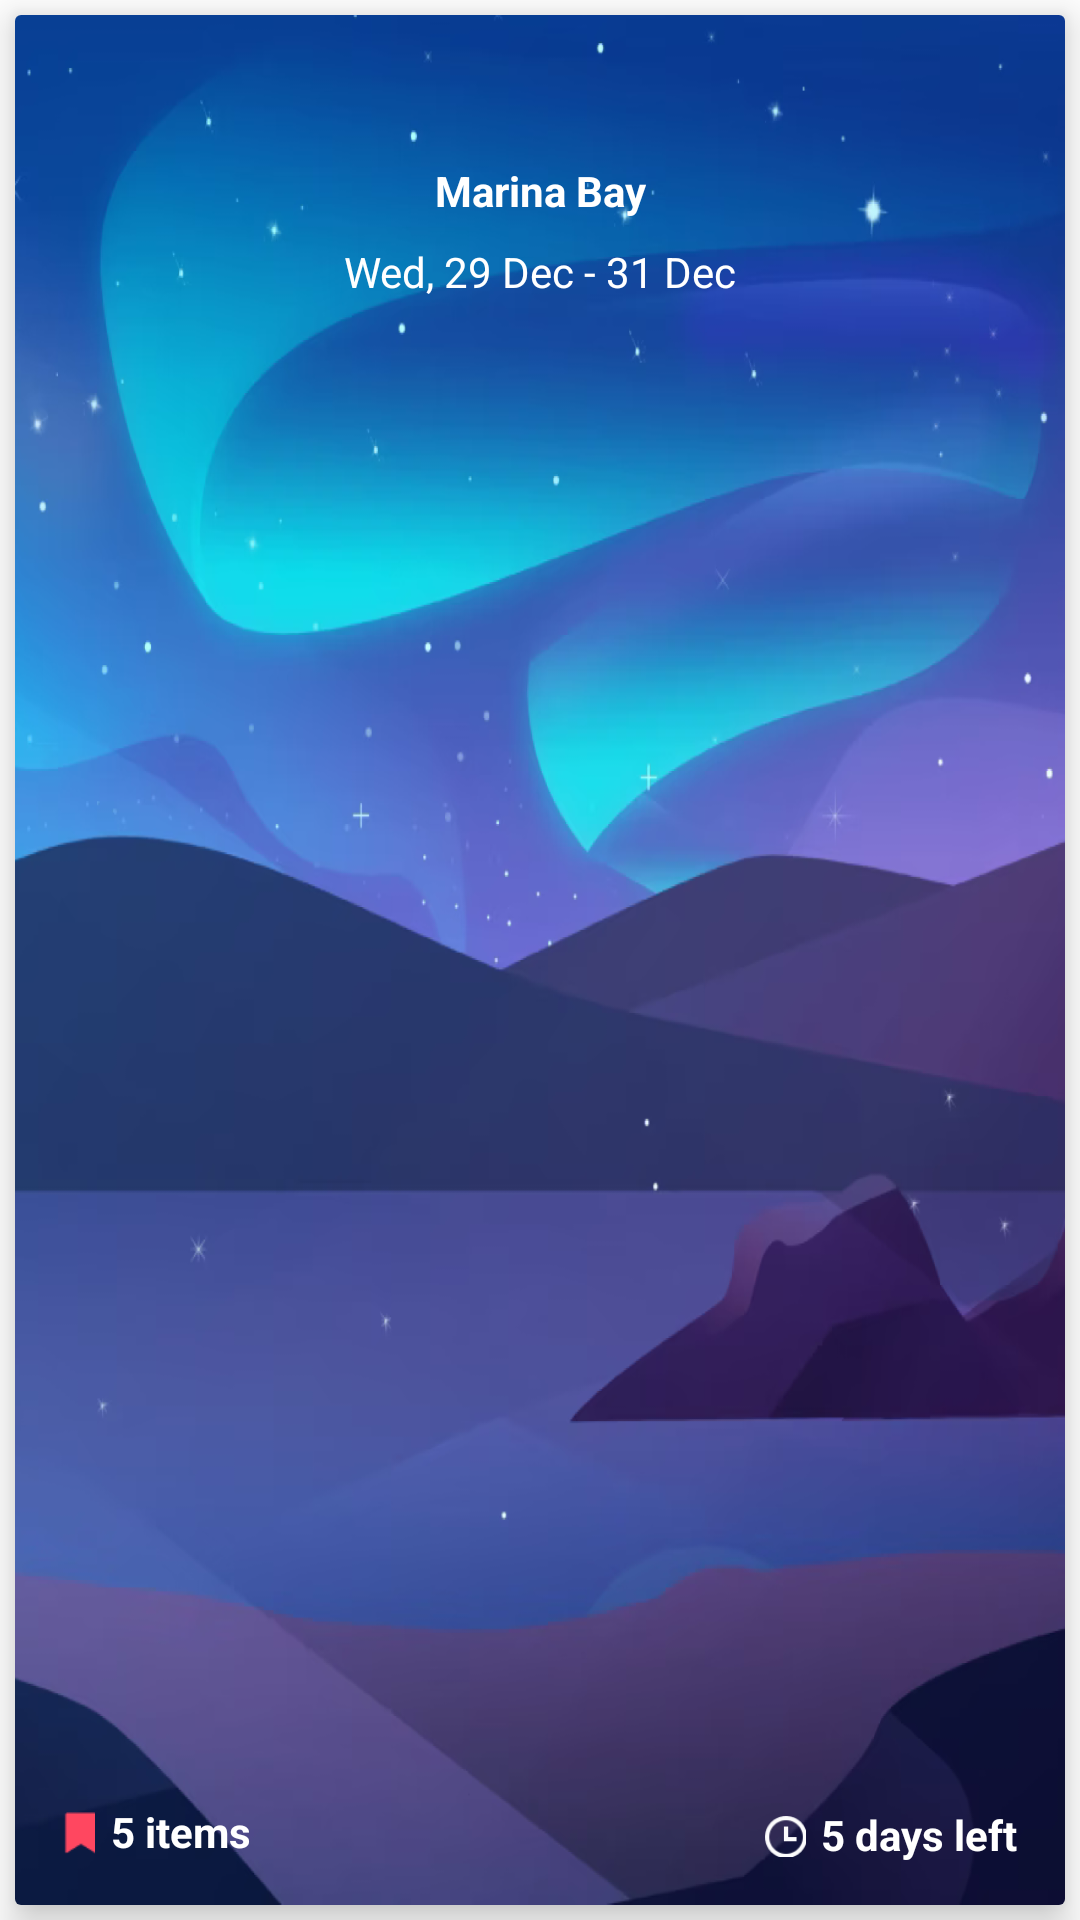

Where to tap for icons on this 1080px x 1920px app screen, as (x,y):
booksmark: (79,1833)
clock: (785,1836)
